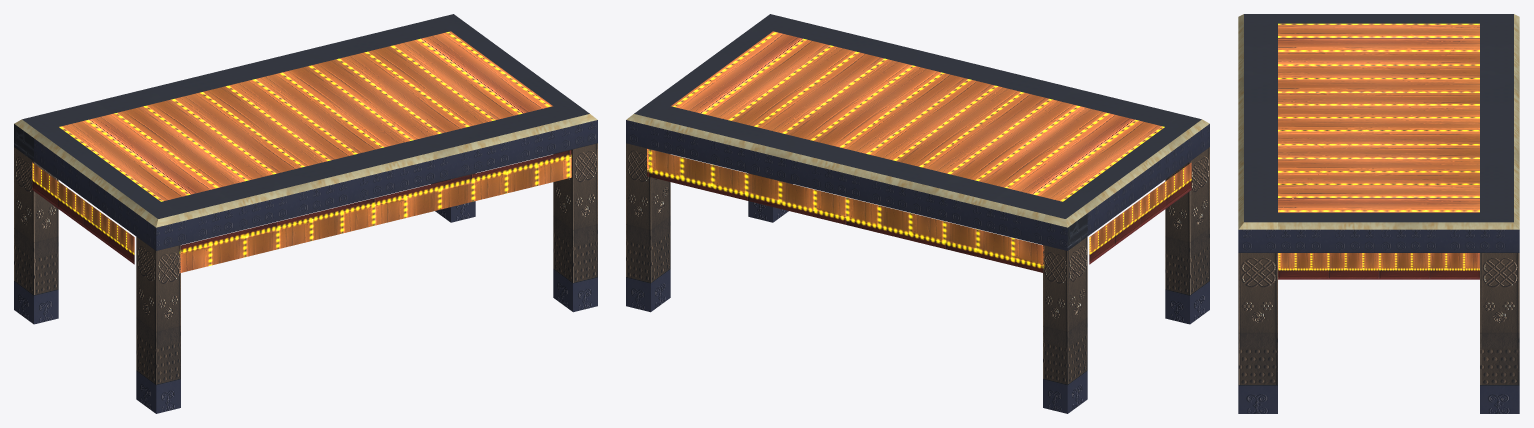
File: Table01_Art.fbx
3 views of the same model, side by side, from view 1: azimuth 30°, elevation 25°; view 2: azimuth 150°, elevation 25°; view 3: azimuth 270°, elevation 25° (orthographic).
Parts seen in each view (by area): view 1: Table01_Art; view 2: Table01_Art; view 3: Table01_Art.
Part boxes in pixels (<box>): Table01_Art: <box>14,14,597,413</box>; Table01_Art: <box>626,14,1209,413</box>; Table01_Art: <box>1238,14,1519,413</box>.
Size of the model in its own units: 1.91 by 0.7883 by 1.06.
